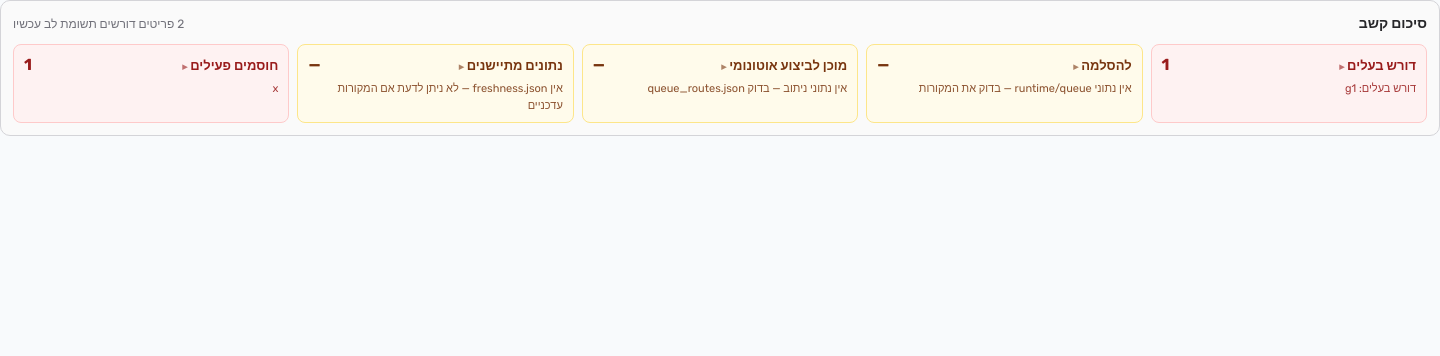
Test: <AttentionSummaryCard> — tap-to-expand › multiple cells can be expanded independently
What coordinates should you click on to do the following:
click the button with test id "attention-summary-owner_required-toggle"
I would click on:
 (1289, 75)
Its box is [1162,53,1416,98].
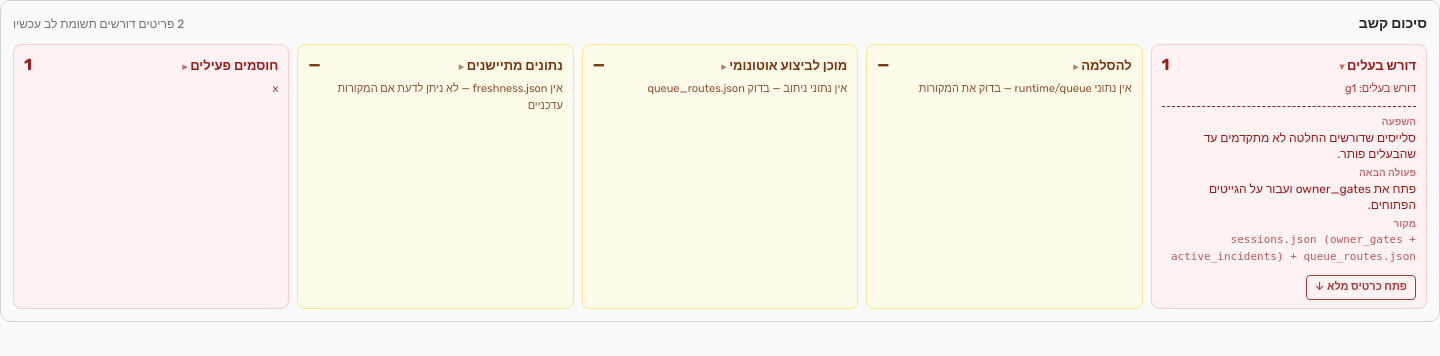
What coordinates should you click on to do the following:
click the button with test id "attention-summary-blockers-toggle"
I would click on:
 (151, 75)
Its box is [24,53,278,98].
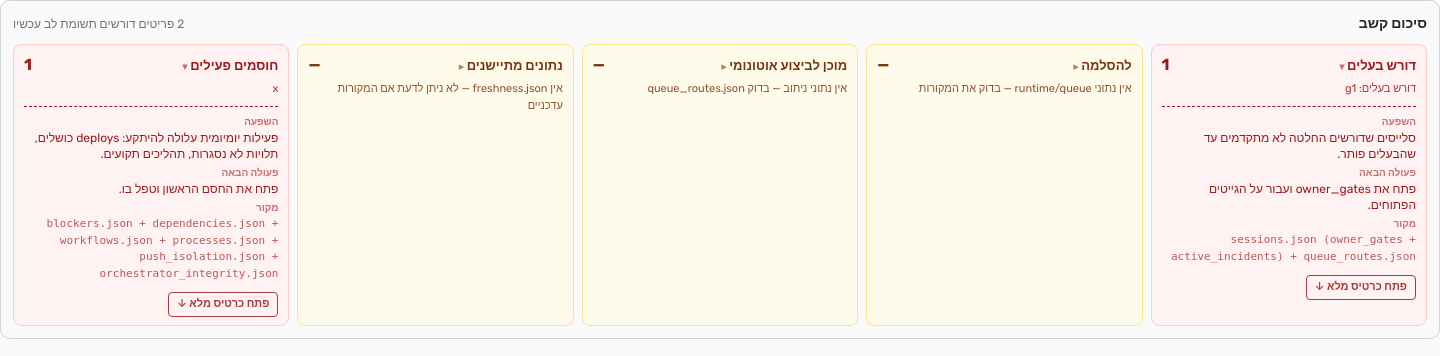
Now the element with test id "attention-summary-owner_required-details" is shown, box [1162,106,1416,300]
Now the element with test id "attention-summary-blockers-details" is shown, box [24,106,278,317]
